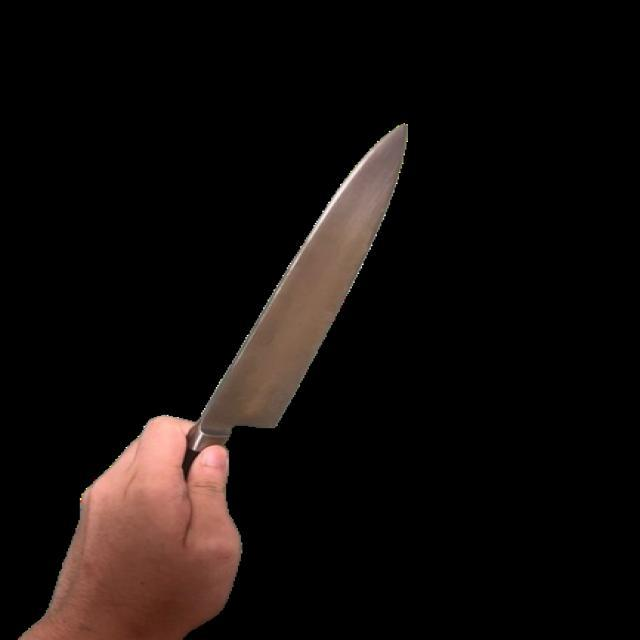knife: (13, 113, 412, 639)
